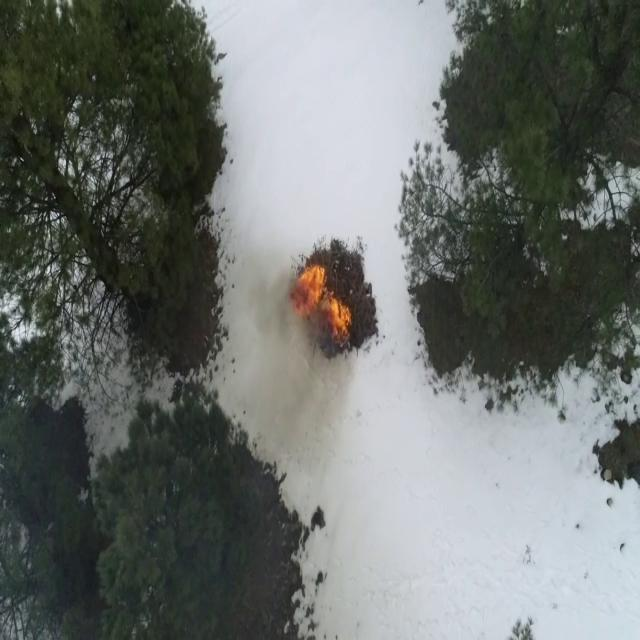fire: (294, 262, 324, 314), (325, 294, 351, 342)
